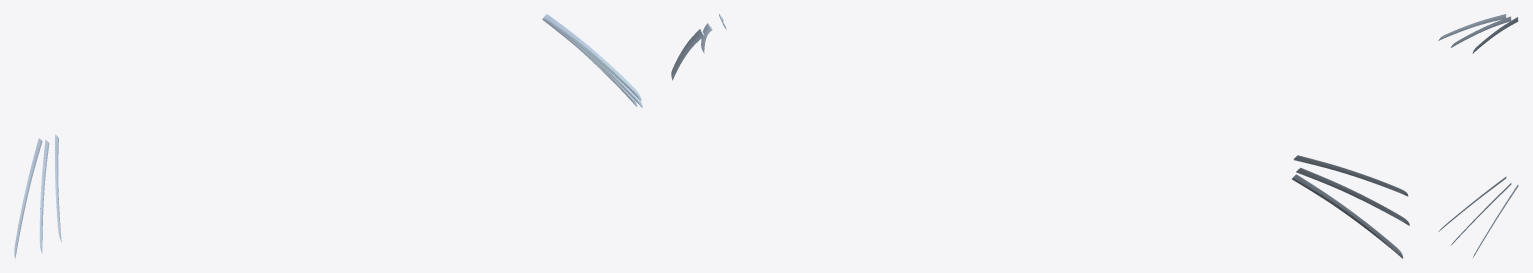
File: mhw_culturalibre_hand_claws.glb
The picture shows the model from 3 angles, left to right: view 1: azimuth 30°, elevation 25°; view 2: azimuth 150°, elevation 25°; view 3: azimuth 270°, elevation 25°; orthographic projection. The views are drawn at different scales.
Visible parts, largest first — view 1: mhw_culturalibre_hand_claws; view 2: mhw_culturalibre_hand_claws; view 3: mhw_culturalibre_hand_claws.
Part boxes in pixels (x1,y1,x2,y2): mhw_culturalibre_hand_claws: (14,14,642,258); mhw_culturalibre_hand_claws: (671,14,1409,258); mhw_culturalibre_hand_claws: (1438,14,1518,258).
Size of the model in its own units: 1.41 by 0.1964 by 0.2328.
1 material, 1 textured.
